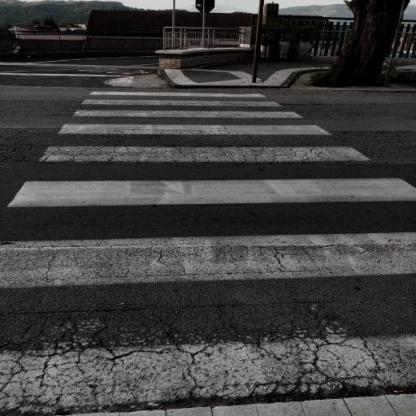crosswalk: (23, 119, 377, 170), (80, 87, 288, 111)
